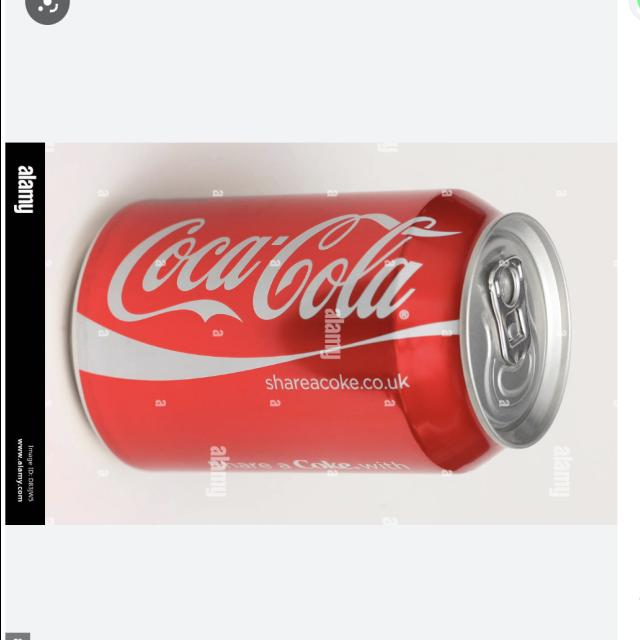can: (56, 160, 602, 512)
